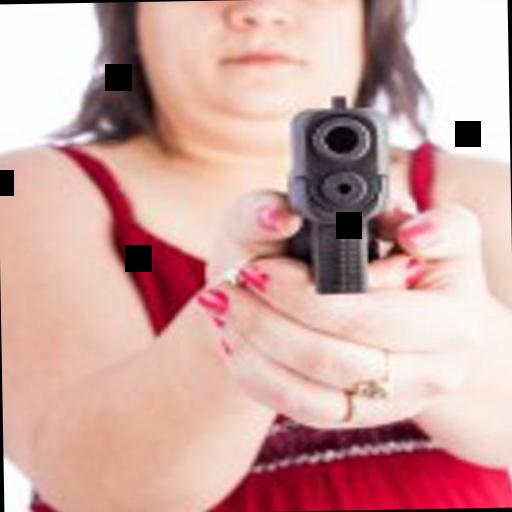Handgun: (272, 70, 398, 300)
